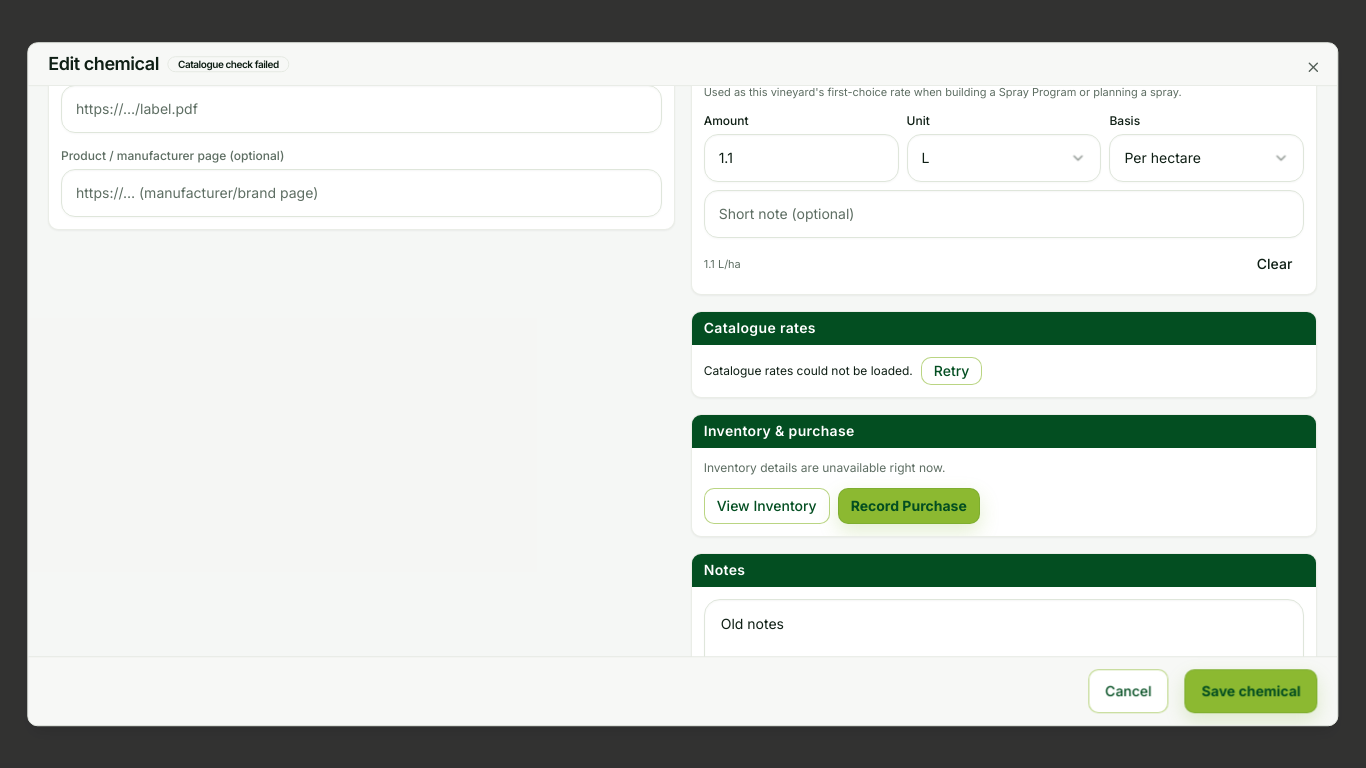
Test case: Edit chemical catalogue section › shows Retry on error and loads after retry
(page scrolled)
Click the button "Retry" at (952, 371), box [921,357,983,385]
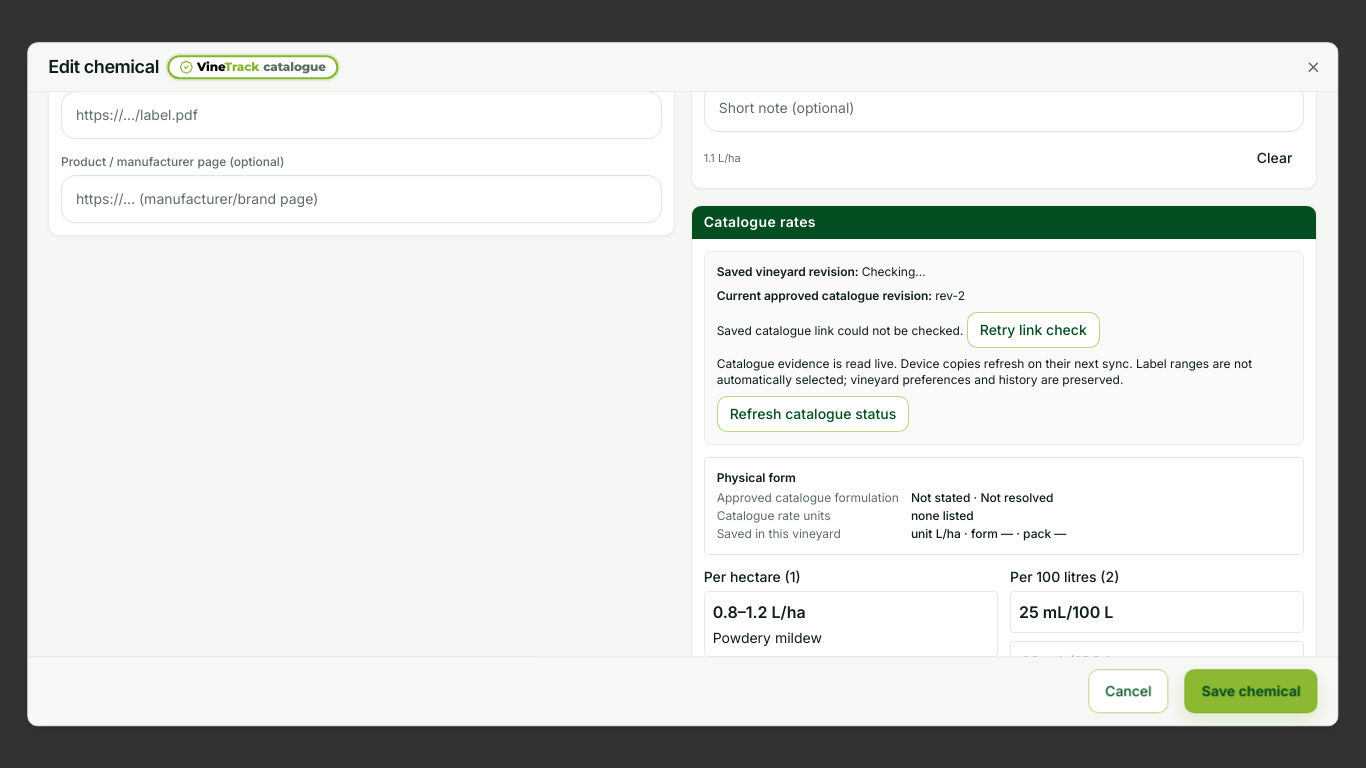
Check: the text "Per hectare (1)" is shown, box [704,567,801,587]
